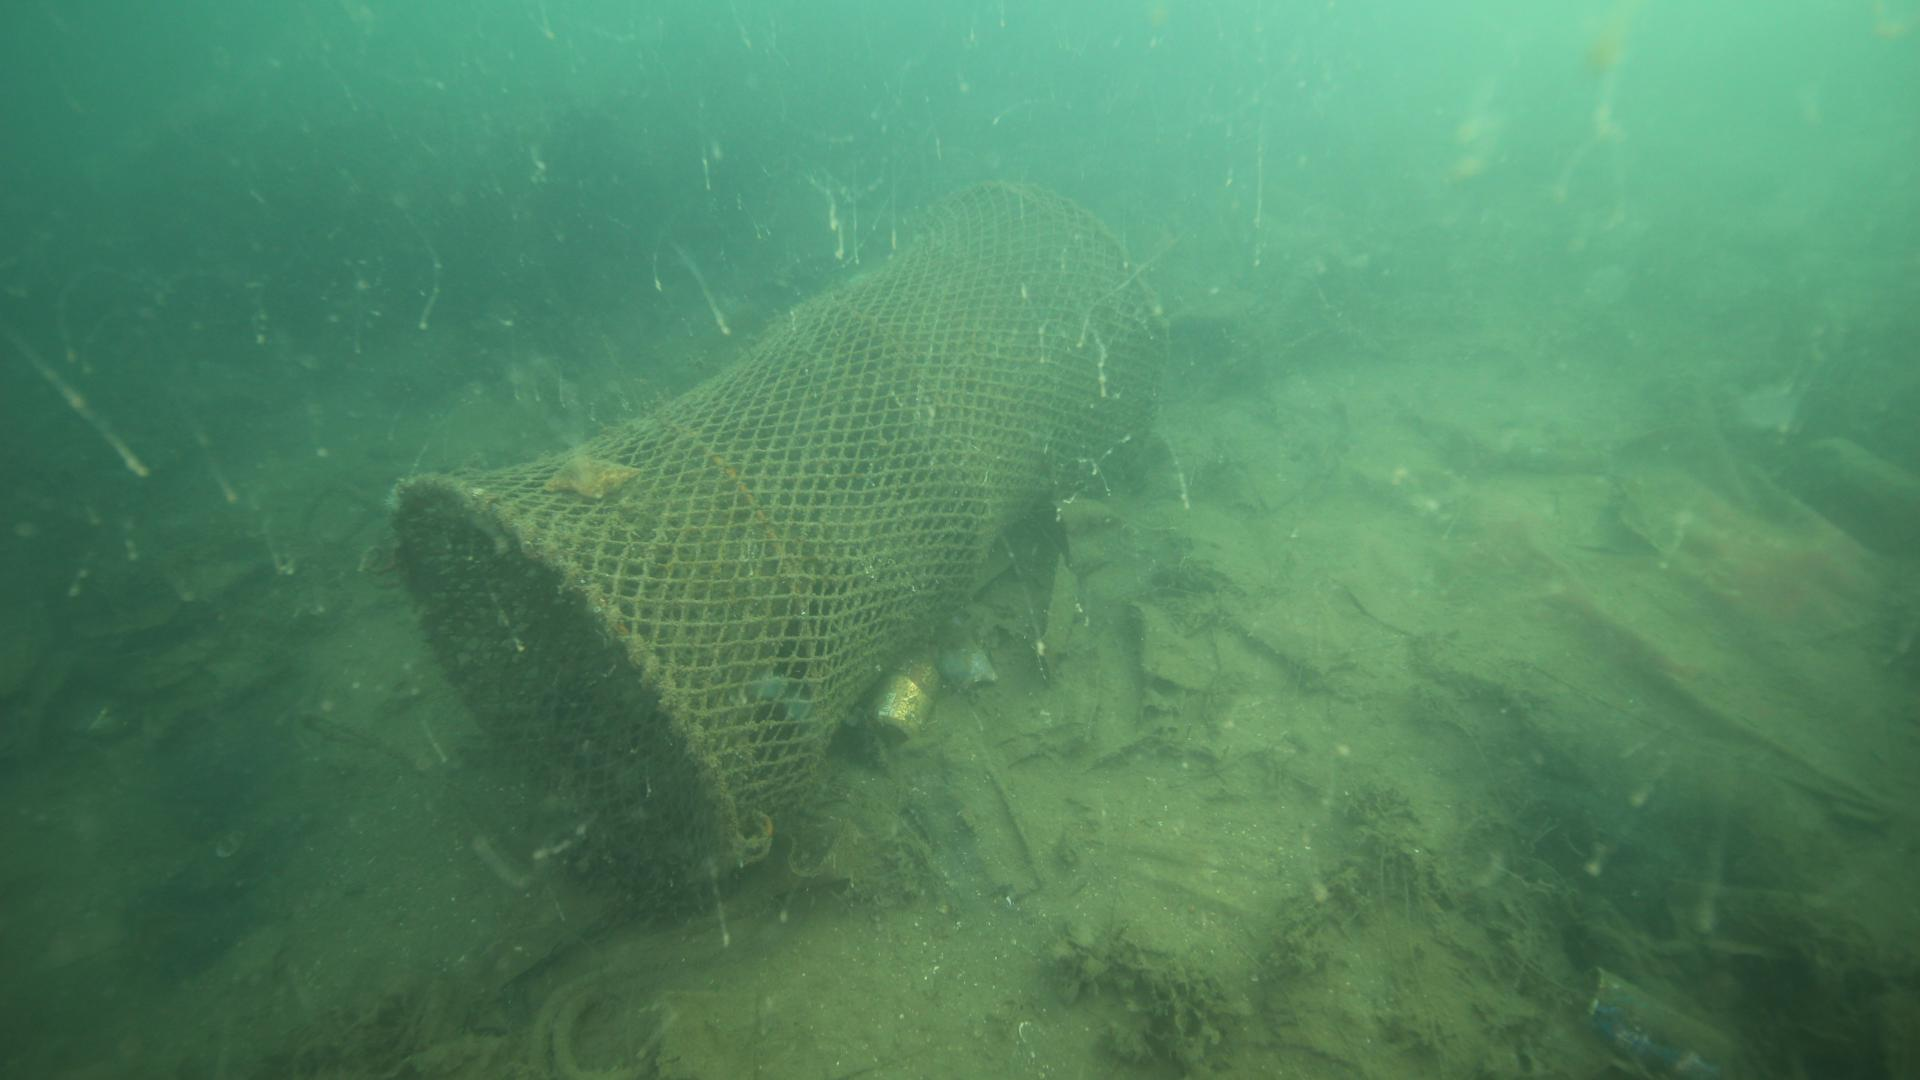spring fish trap: (386, 175, 1171, 880)
